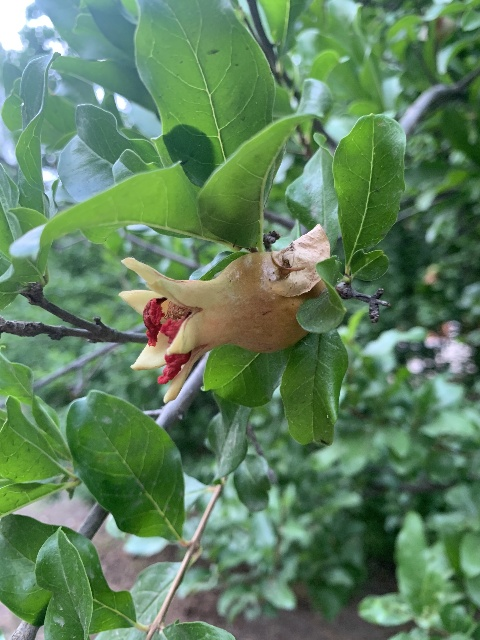early-fruit: (118, 250, 326, 403)
